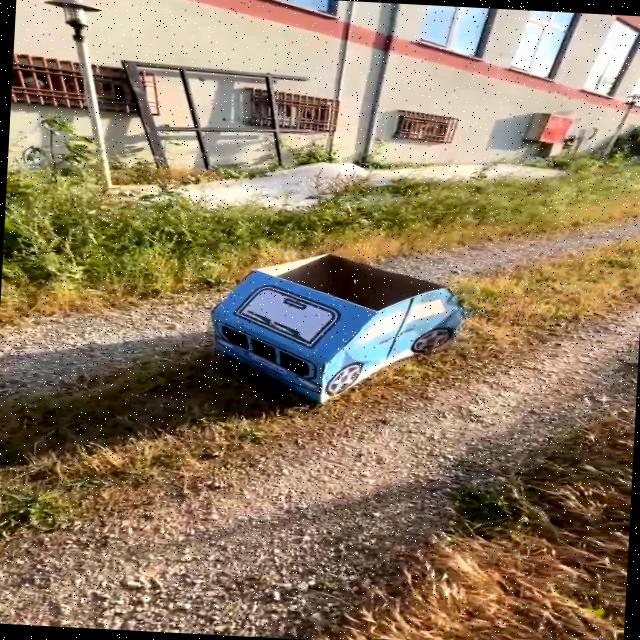blue_car: (146, 226, 506, 439)
